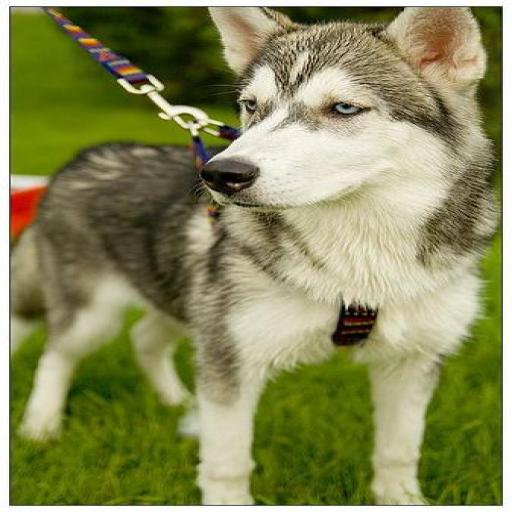dog_face: (196, 9, 486, 210)
